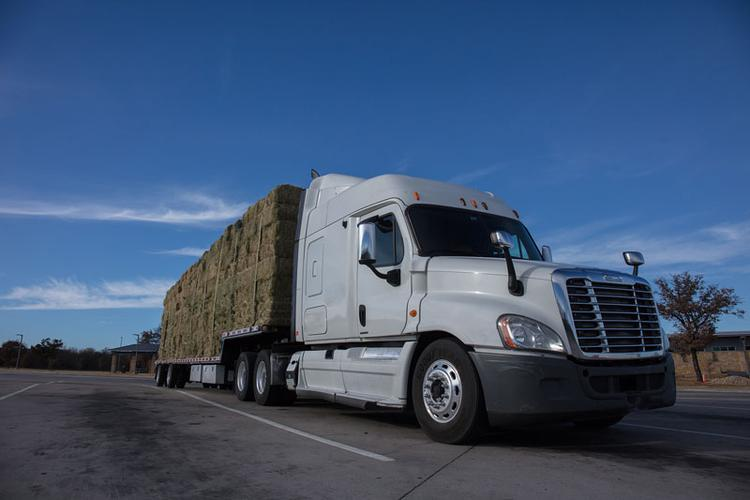卡车: (126, 162, 696, 445)
